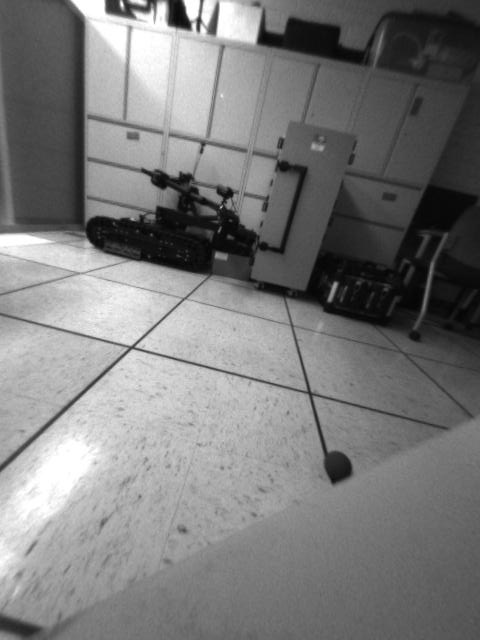dogtoy: (317, 445, 359, 487)
